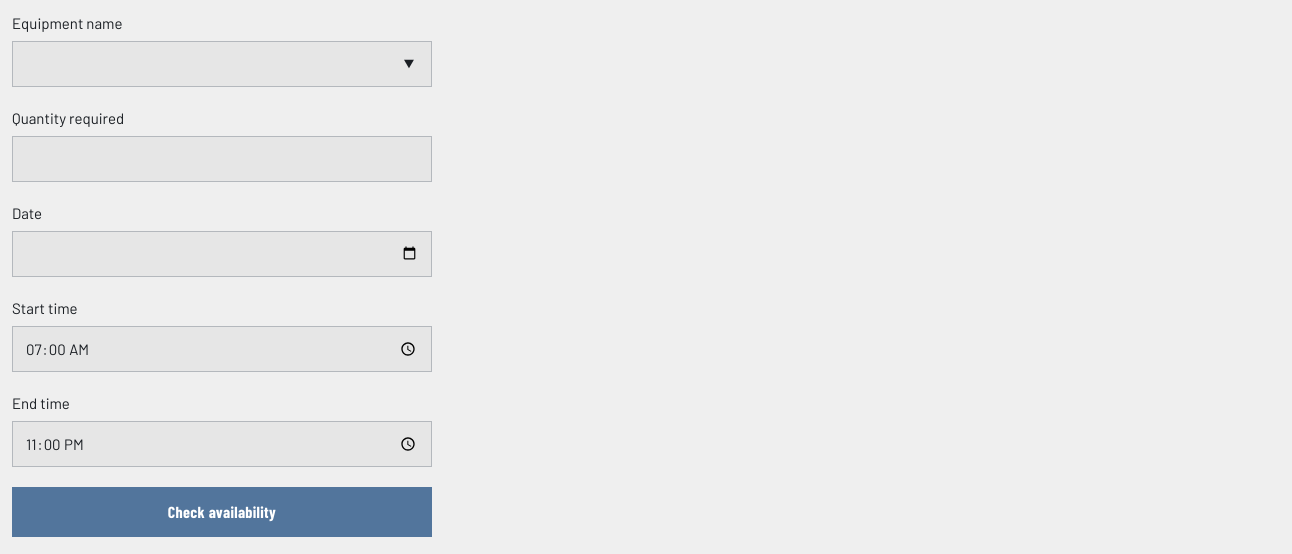
Test: SCRUM-18 equipment availability form › SCRUM-18/AC3: says Insufficient and shows the shortfall
Type "Projector Unit" into the field labelled "Equipment name". click: coordinates (222, 64)
box: [12,40,432,87]
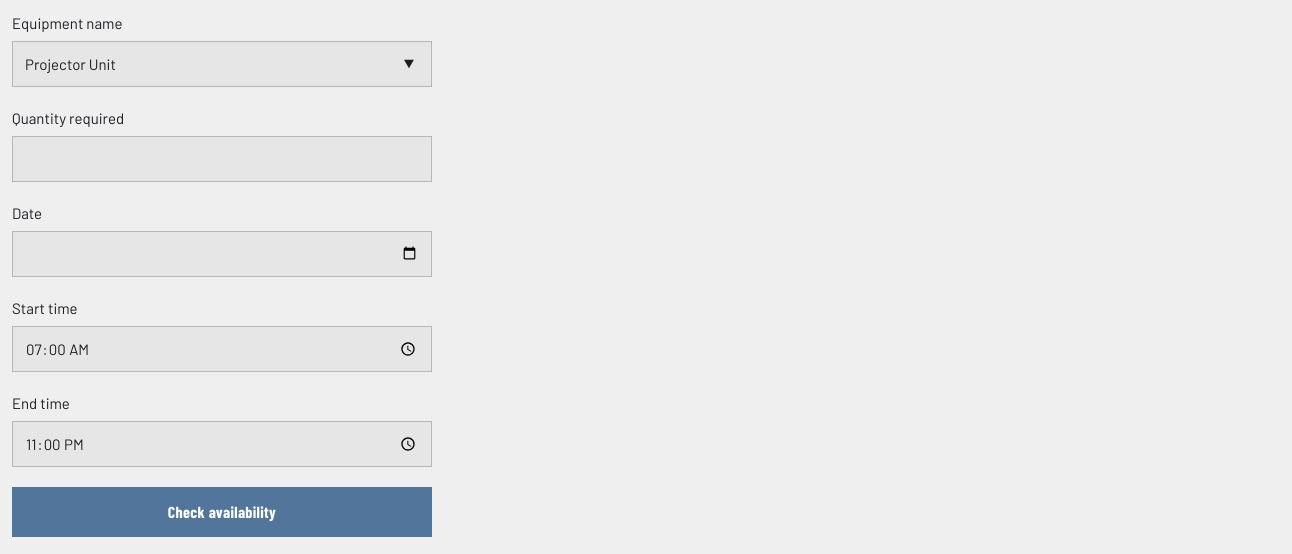
Type "8" into the number field labelled "Quantity required". click: coordinates (222, 159)
box: [12,136,432,182]
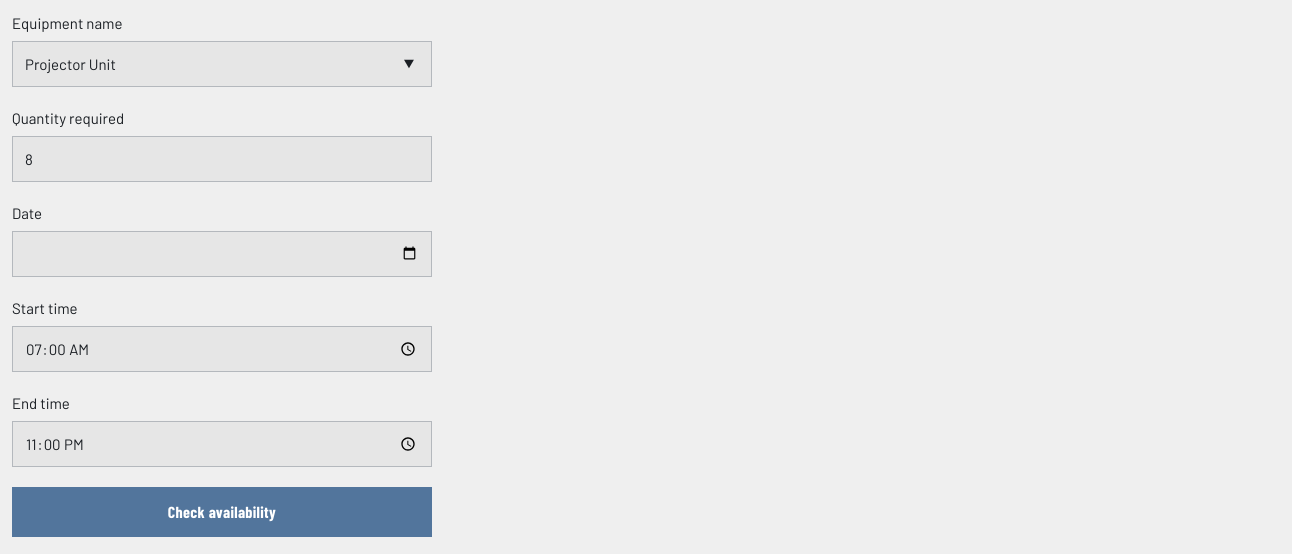
Type "2099-10-15" into the date field labelled "Date". click: coordinates (222, 254)
box: [12,230,432,277]
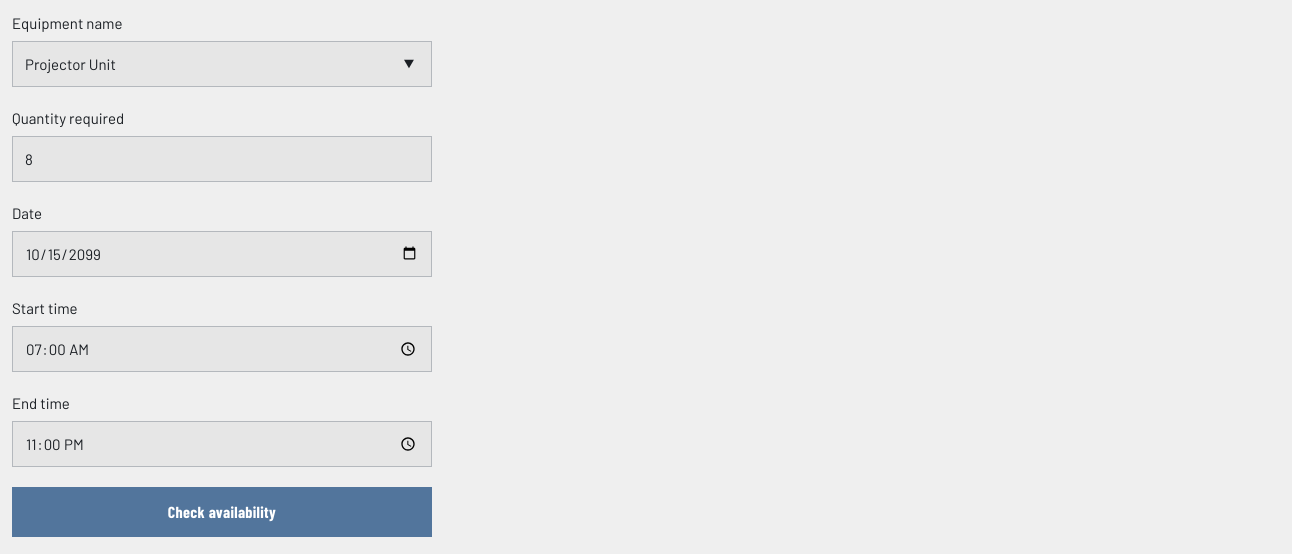
Replace the text in the time field labelled "Start time" with "09:00". click: coordinates (222, 349)
box: [12,326,432,372]
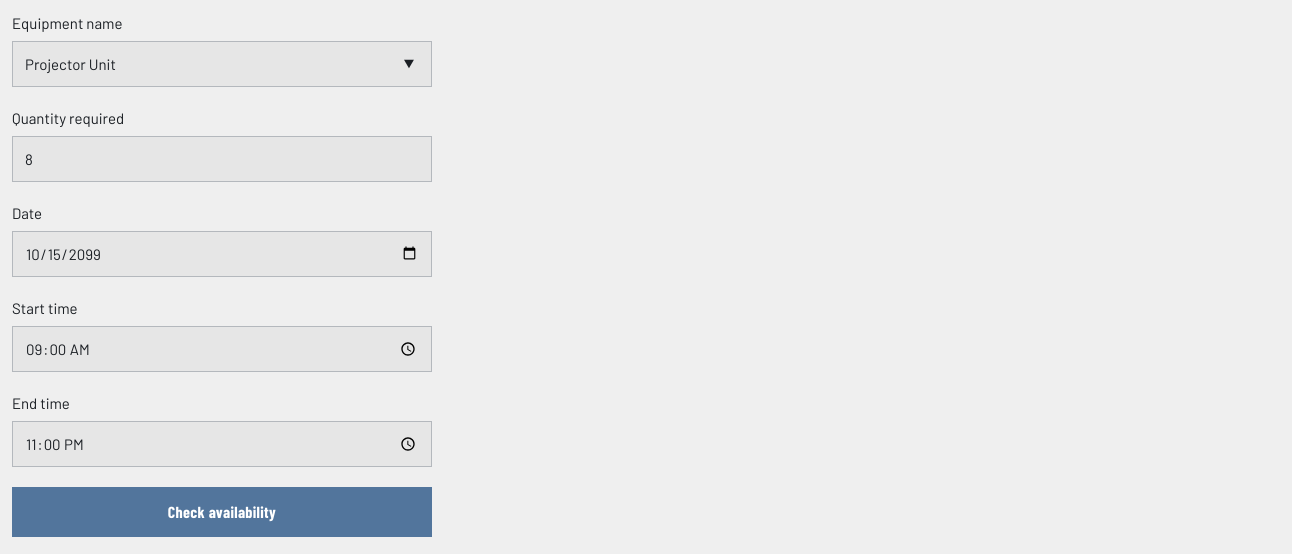
Replace the text in the time field labelled "End time" with "17:00". click: coordinates (222, 444)
box: [12,420,432,467]
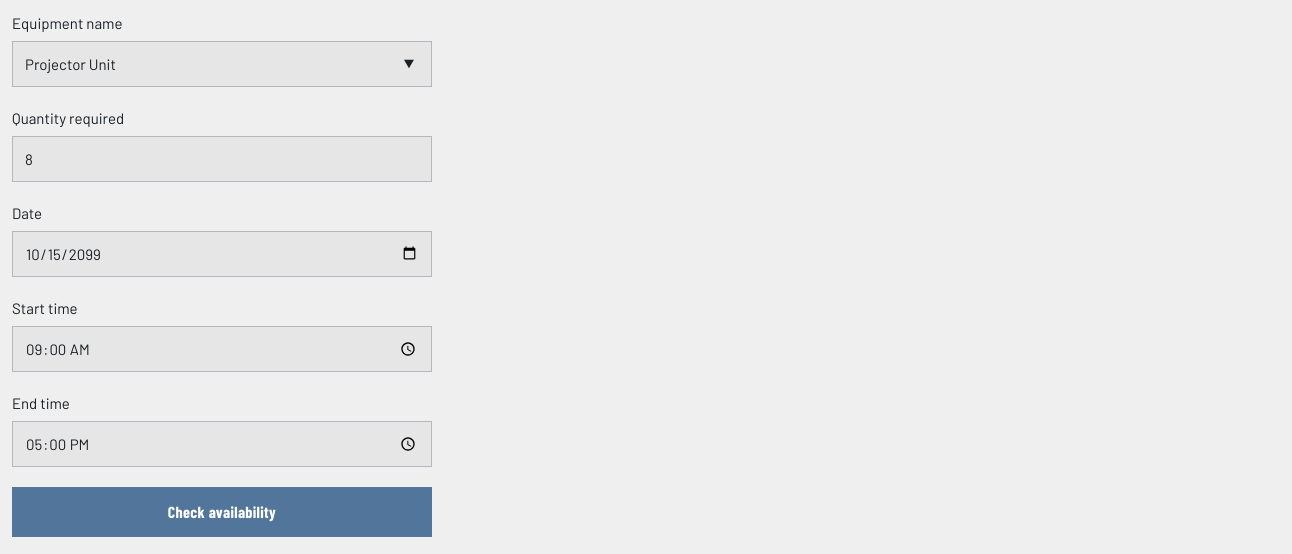
Click the button "Check availability". click: coordinates (222, 512)
box: [12,487,432,537]
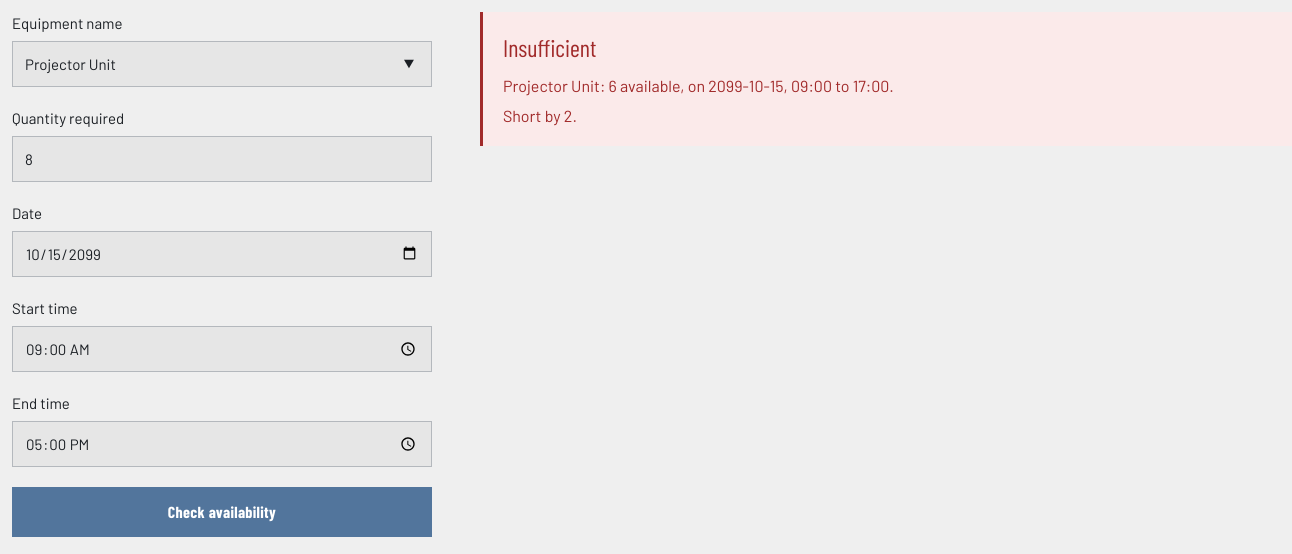
Expected: the heading "Insufficient" is shown, [503,33,596,62]
Expected: the message shows "Short by 2", [480,12,1291,146]
